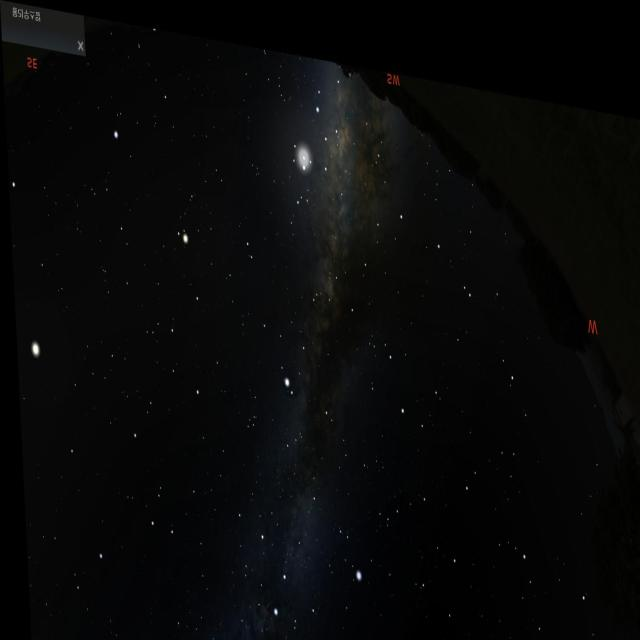aquila: (251, 259, 337, 396)
cygnus: (244, 451, 320, 626)
lyra: (319, 493, 364, 578)
moon: (281, 121, 322, 186)
sagittarius: (278, 65, 343, 202)
